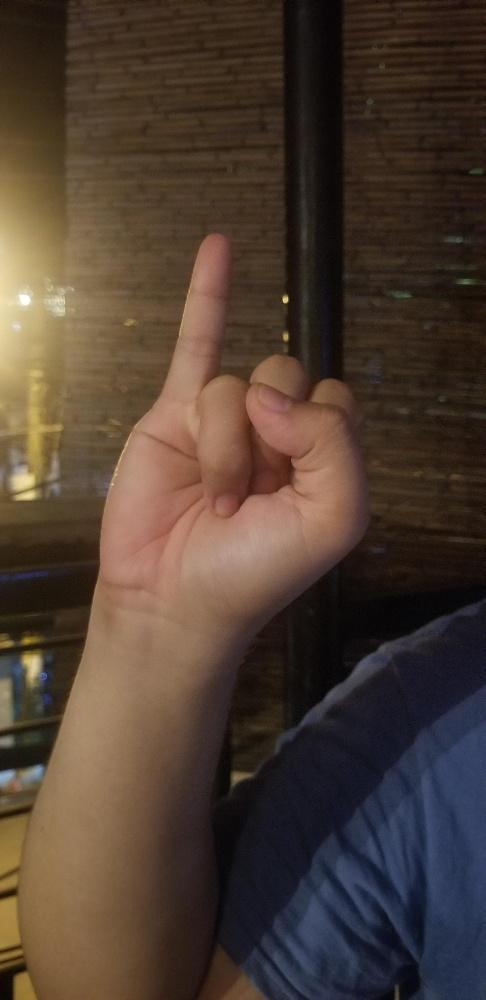i: (99, 229, 374, 607)
